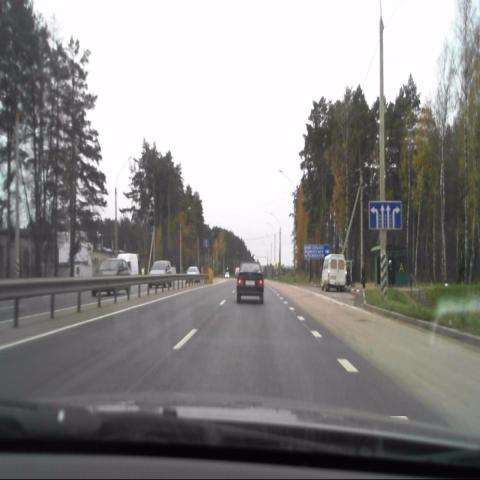5_15_1: (370, 201, 403, 229)
